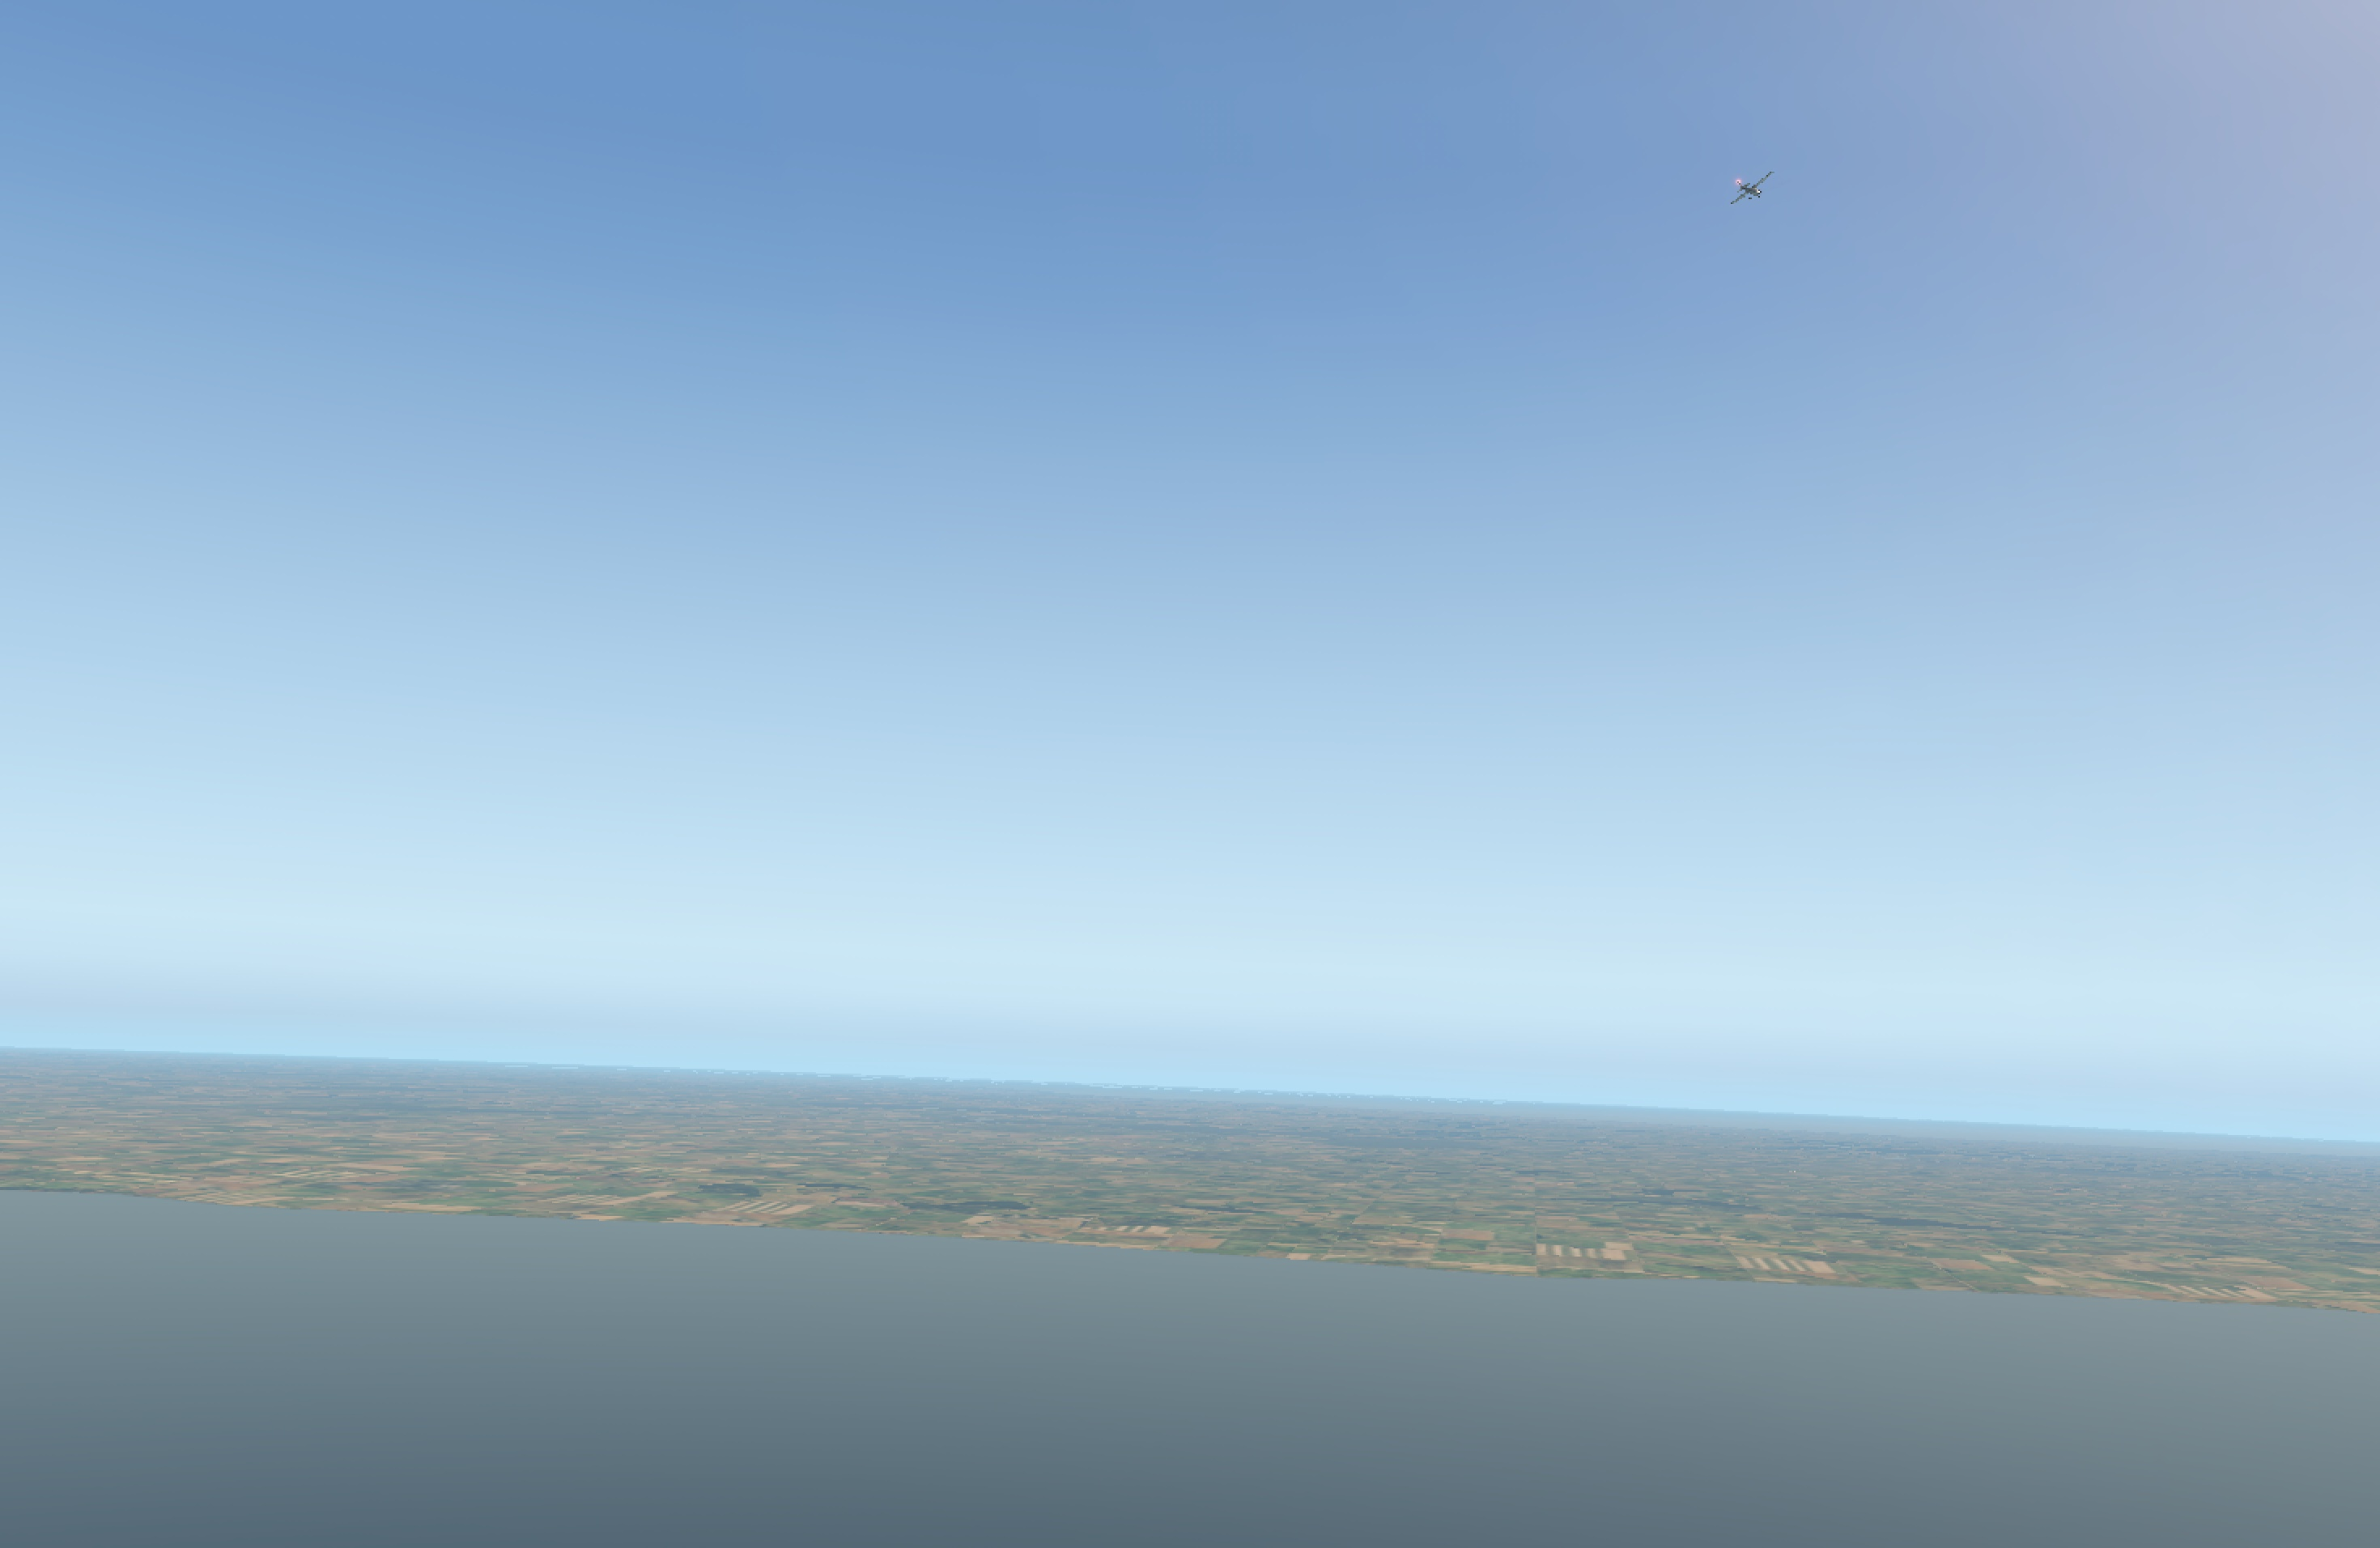aircraft: (1736, 184, 1771, 198)
